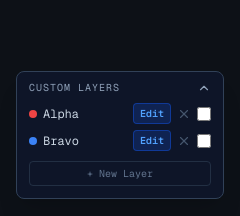
Test: CustomLayerPanel › shows the create form when + New Layer is clicked
Click the button with test id "new-layer-btn" at (120, 174), box [29,161,211,186]
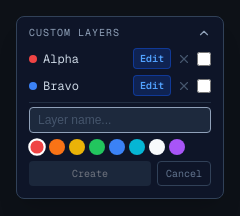
Now the field with test id "new-layer-name-input" is shown, box [29,107,211,133]
Now the button with test id "new-layer-create-btn" is shown, box [29,161,151,186]
